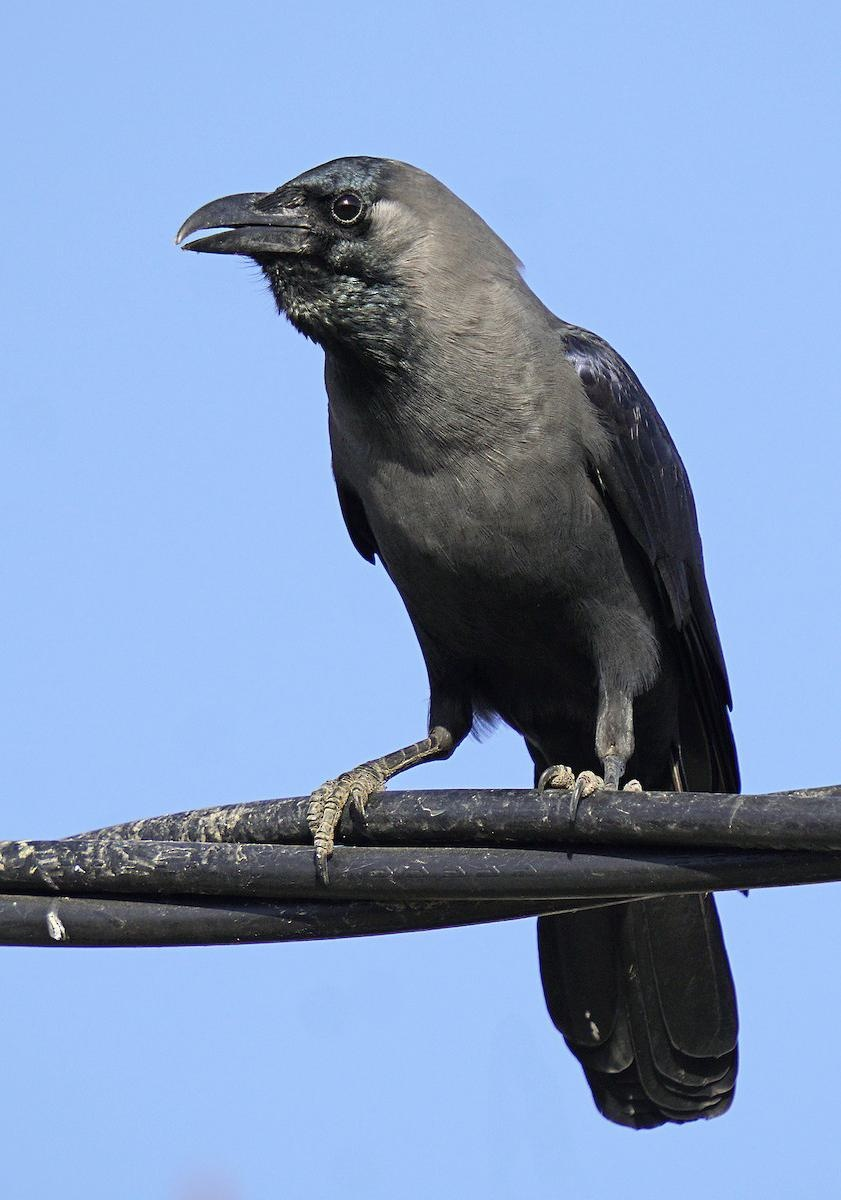crow: (161, 135, 817, 1141)
